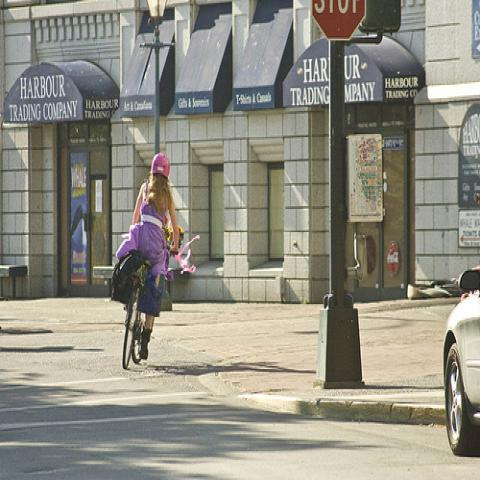car: (442, 267, 480, 455)
